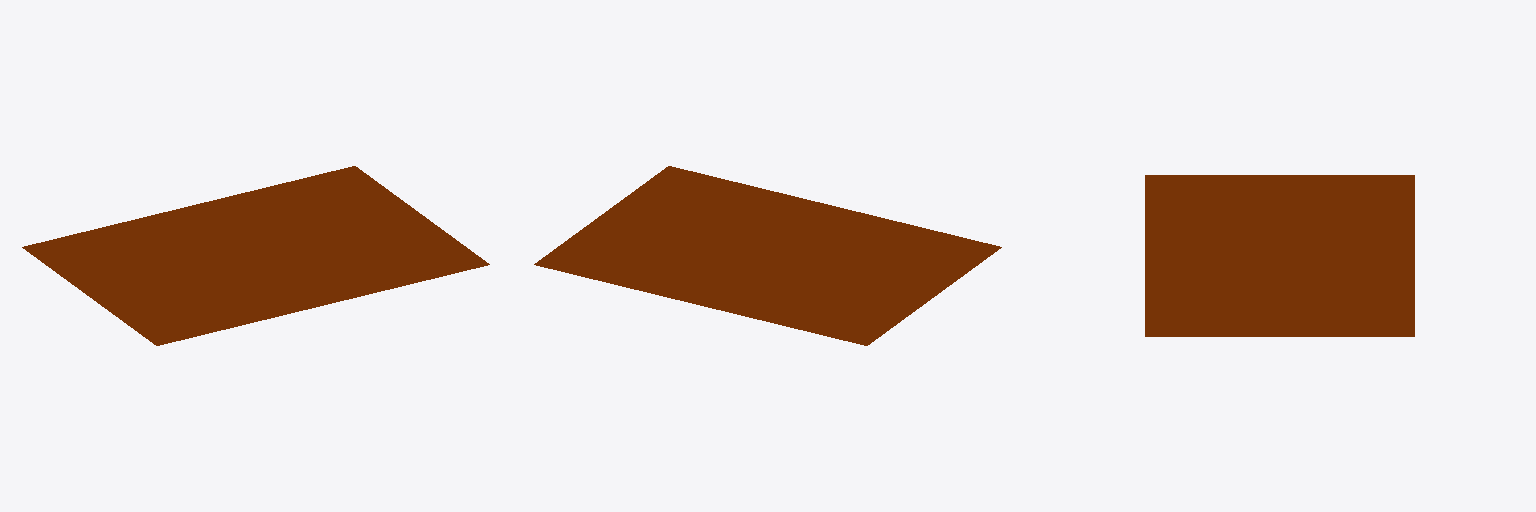
The model's file is Paul.obj.
The picture shows the model from 3 angles: view 1: azimuth 30°, elevation 25°; view 2: azimuth 150°, elevation 25°; view 3: azimuth 270°, elevation 25°; orthographic projection.
Parts seen in each view (by area): view 1: Plane001; view 2: Plane001; view 3: Plane001.
Boxes of the visible parts, x1=… form: Plane001: x1=22, y1=166, x2=489, y2=345; Plane001: x1=534, y1=166, x2=1001, y2=345; Plane001: x1=1145, y1=175, x2=1414, y2=336.
Size of the model in its own units: 53.67 by 0 by 37.71.